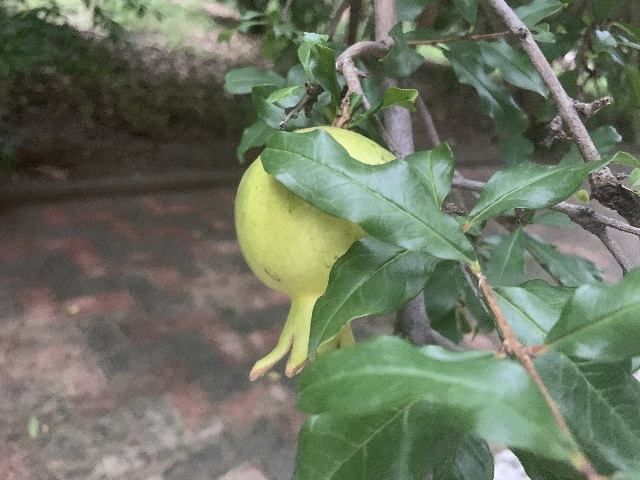mid-growth: (233, 125, 396, 383)
